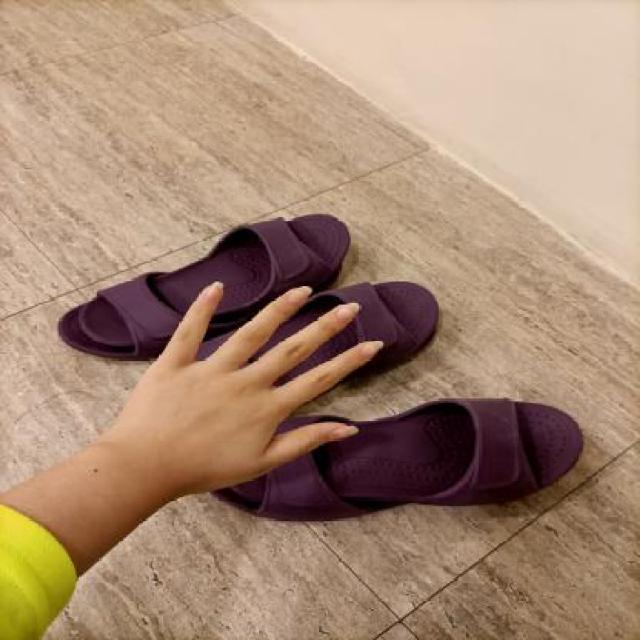bare_hand: (78, 261, 400, 508)
